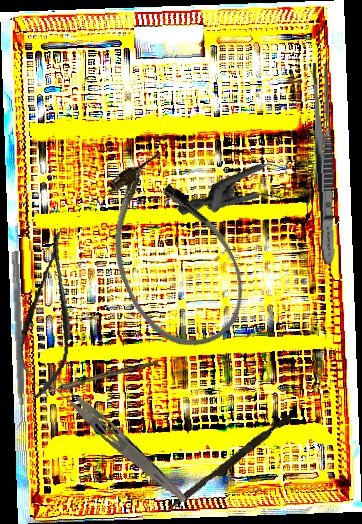Cannula: (81, 141, 262, 366)
Dressing Forceps: (39, 368, 194, 506), (308, 62, 340, 265)
Micro Scissor: (11, 225, 86, 402)
Pusher: (166, 411, 293, 516)
Spatula Surgical: (3, 251, 29, 430)
Speculum: (175, 116, 332, 274)
Surgical Spoon: (24, 357, 159, 402)
